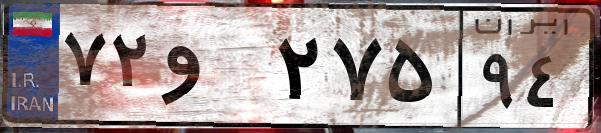2: (270, 28, 330, 110), (110, 28, 158, 98)
4: (525, 38, 570, 115)
5: (385, 28, 445, 110)
7: (330, 28, 385, 110), (57, 26, 110, 100)
9: (475, 38, 525, 113)
و: (158, 20, 270, 120)
